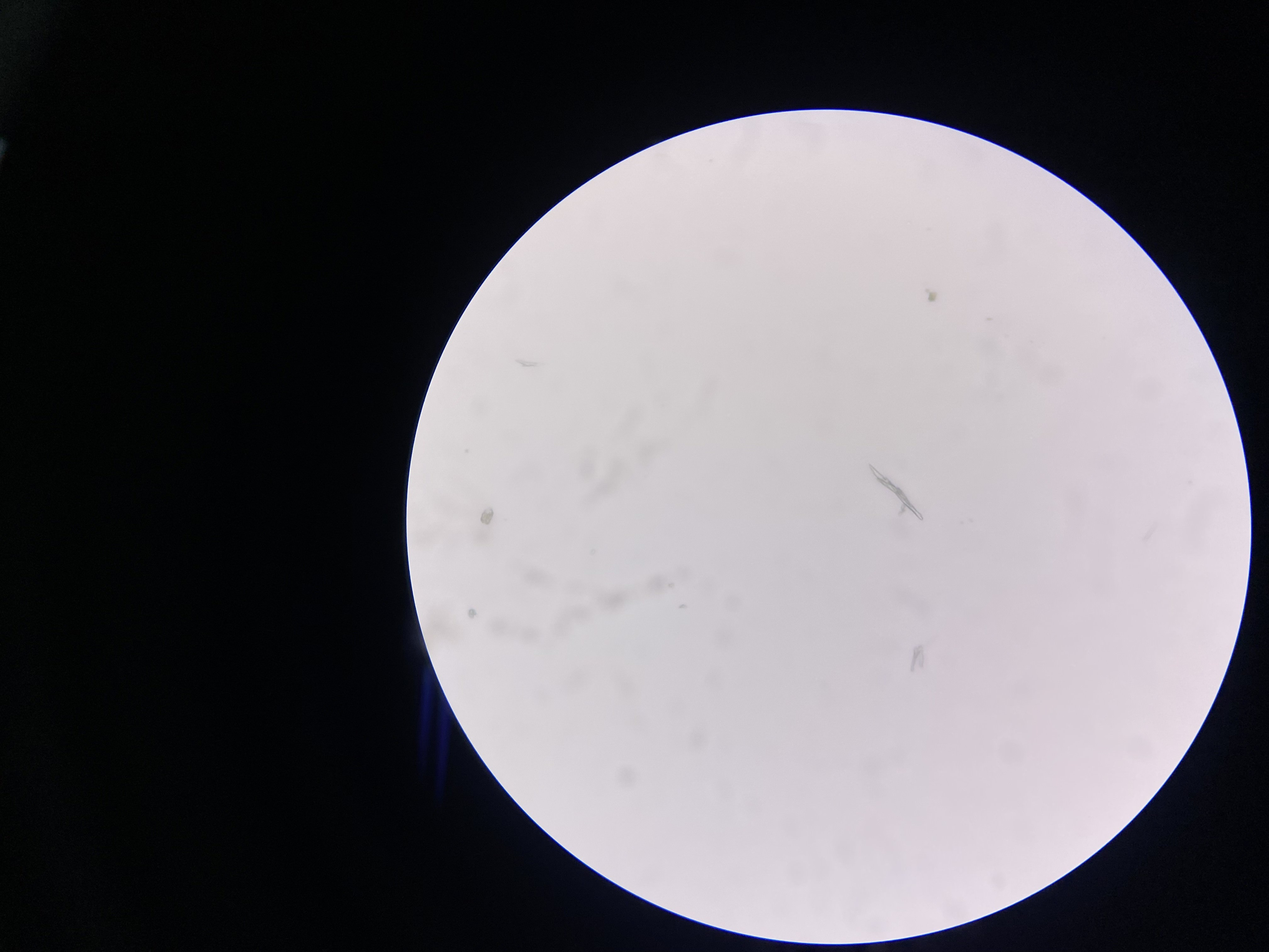microplastic: (860, 459, 928, 526), (908, 643, 931, 673), (479, 509, 496, 525), (923, 287, 938, 301), (467, 608, 478, 619)
